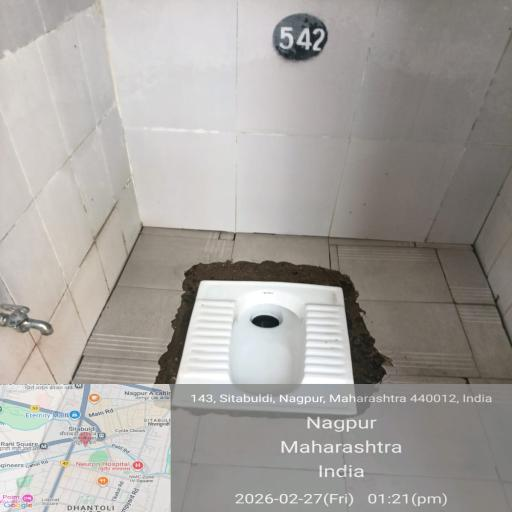clean_floor: (97, 246, 495, 511), (51, 18, 486, 230)
clean_indian: (189, 274, 363, 416)
